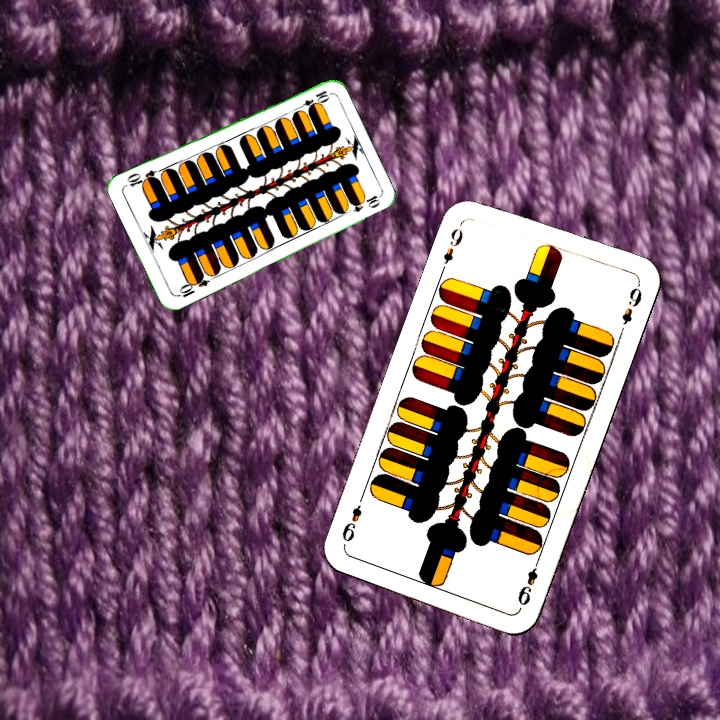E10: (173, 271, 211, 300), (293, 86, 332, 113)
E9: (437, 217, 467, 274), (513, 554, 543, 608)
